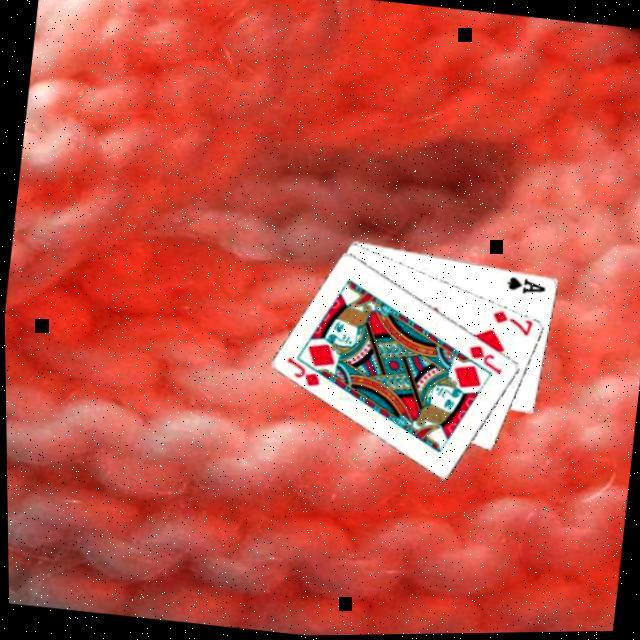7D: (485, 305, 533, 339)
AS: (501, 272, 547, 298)
JD: (277, 352, 322, 390), (460, 340, 504, 378)
